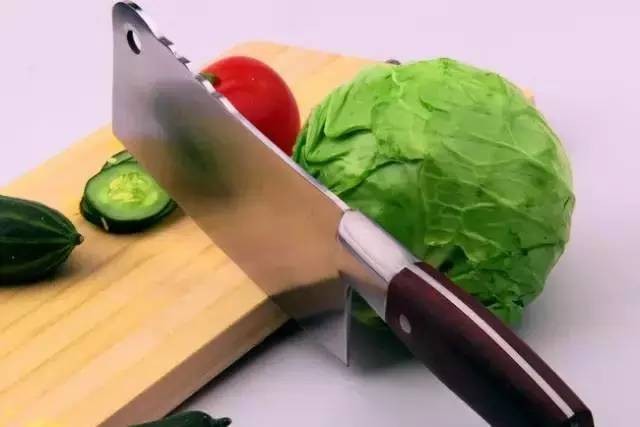knief: (90, 7, 593, 423)
